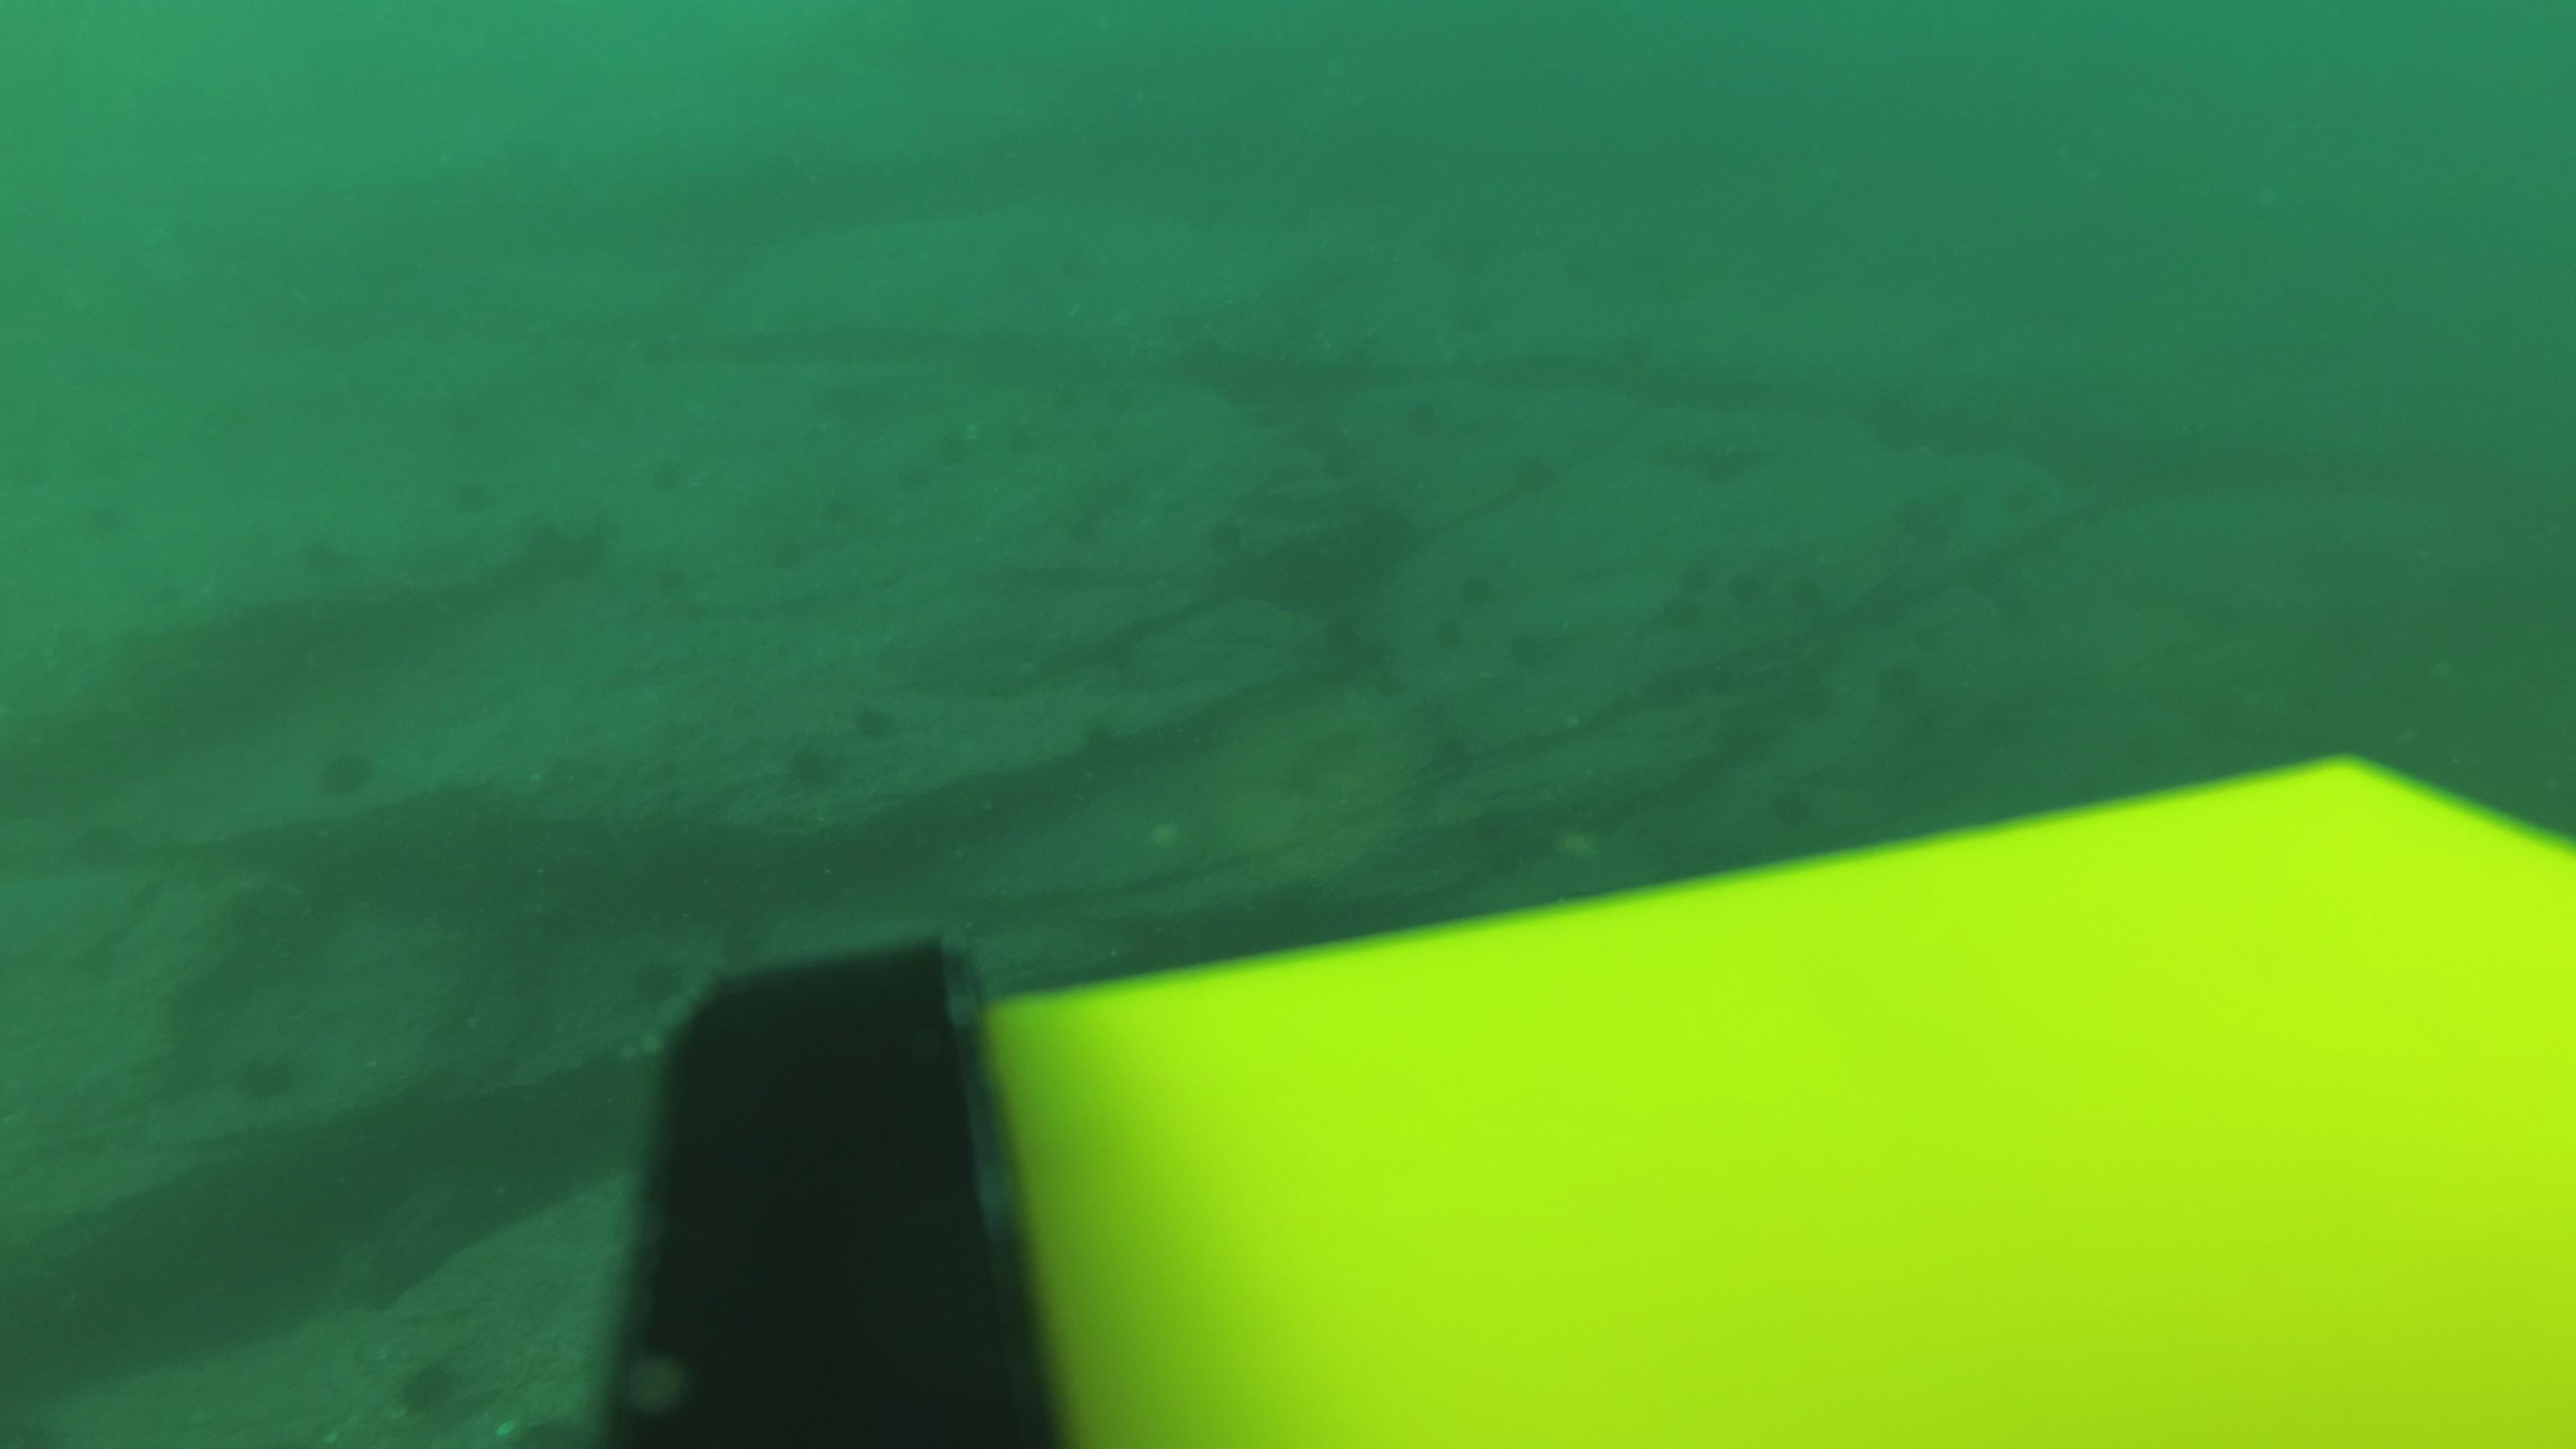echinus: (384, 1350, 478, 1431), (226, 1042, 306, 1109), (308, 740, 384, 805), (775, 732, 847, 798), (619, 948, 688, 1014), (846, 695, 908, 747), (1868, 416, 1930, 462), (1895, 499, 1951, 538), (1766, 789, 1812, 828), (1431, 731, 1477, 770), (1794, 690, 1840, 727), (1617, 333, 1661, 370), (823, 386, 869, 421), (1661, 593, 1702, 632), (1877, 671, 1913, 713), (1316, 617, 1366, 648), (1205, 518, 1246, 554), (1727, 570, 1762, 607), (1522, 462, 1559, 495), (1996, 591, 2035, 623), (1322, 449, 1362, 479), (1796, 580, 1829, 616), (936, 432, 973, 464), (1081, 725, 1120, 755), (306, 540, 340, 573), (1106, 391, 1148, 418), (1500, 635, 1539, 663), (771, 538, 805, 570), (1974, 563, 2010, 593), (1410, 400, 1440, 432), (651, 467, 683, 497), (446, 483, 481, 510), (897, 465, 931, 492), (1458, 579, 1484, 610), (1456, 306, 1490, 331), (1683, 566, 1713, 593), (1435, 621, 1465, 648), (1375, 672, 1407, 697), (1012, 430, 1044, 455), (1085, 428, 1115, 453)
